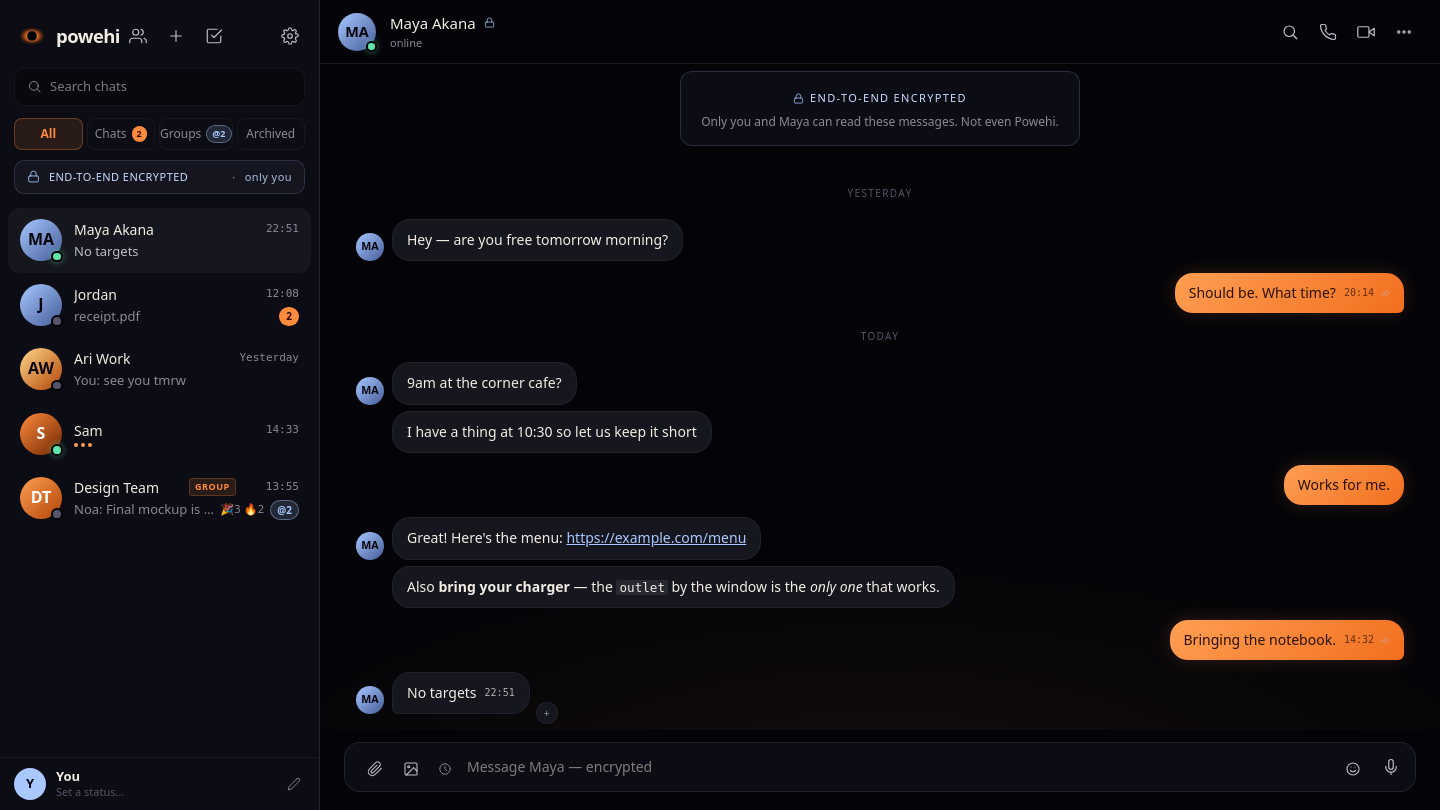
ChatLayout — message forwarding › forward modal shows 'No other conversations' when no other chat has an MLS session
The width and height of the screenshot is (1440, 810).
(page scrolled)
Hover over the element with test id "message-bubble" showing "MA No targets 22:51 +".
mouse_move(457, 698)  # box [356, 672, 558, 724]
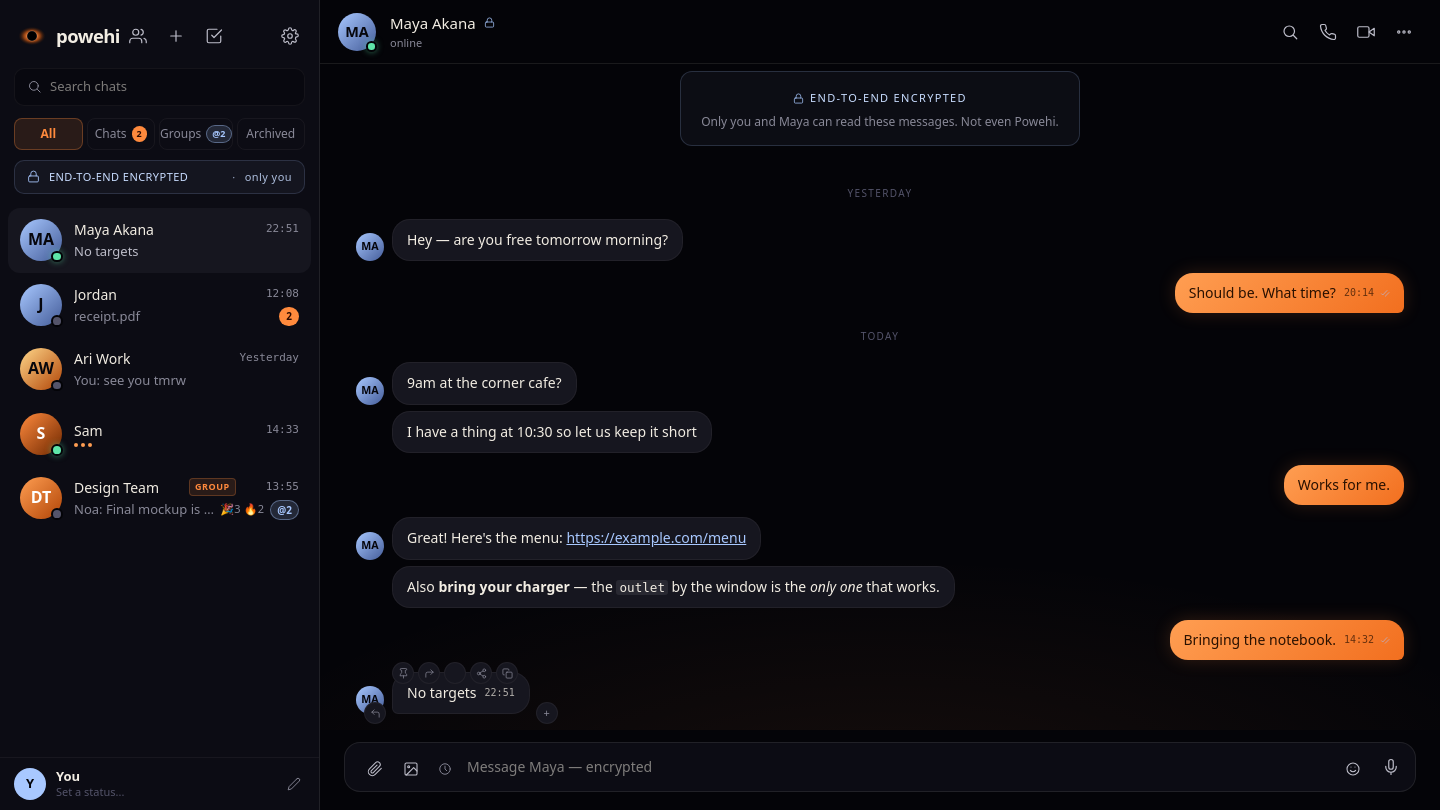
Click the button with test id "forward-button".
click(429, 673)  # box [418, 662, 440, 684]
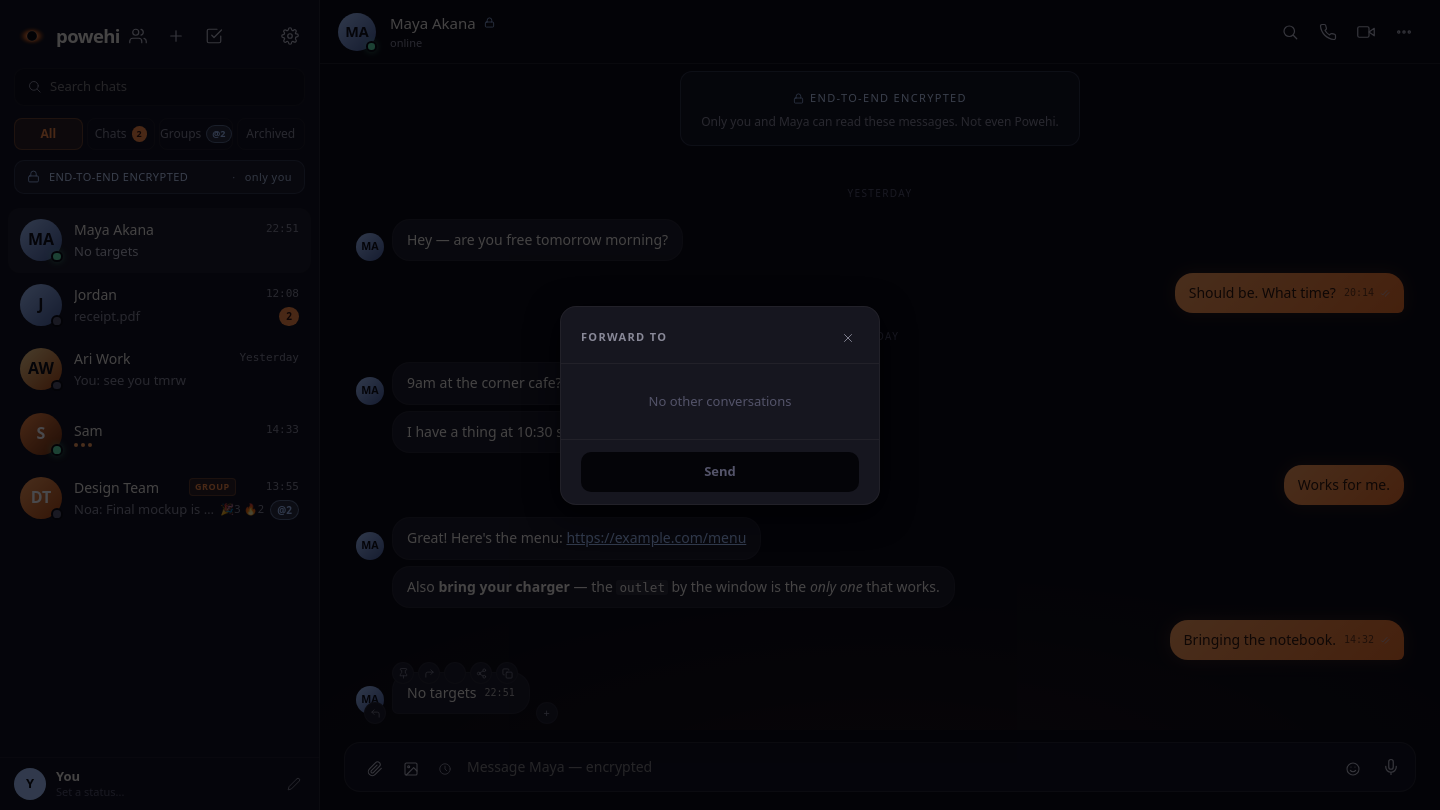
Check: the text "No other conversations" is shown, box [648, 392, 791, 410]
